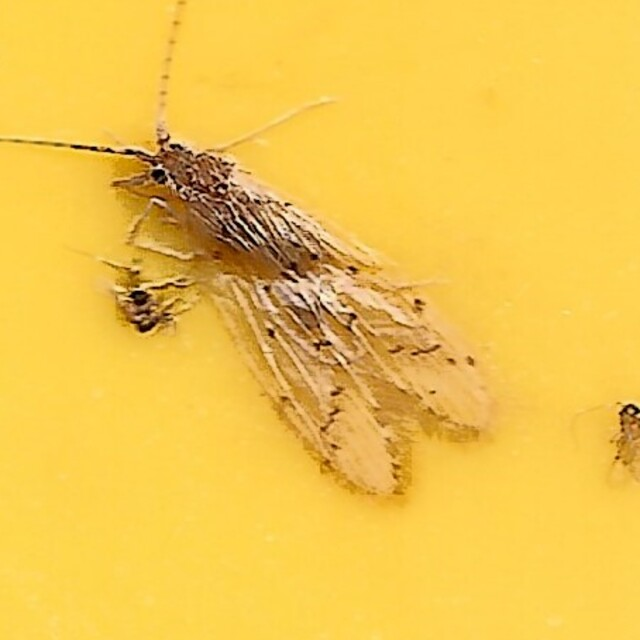Psocoptera: (141, 133, 499, 507)
